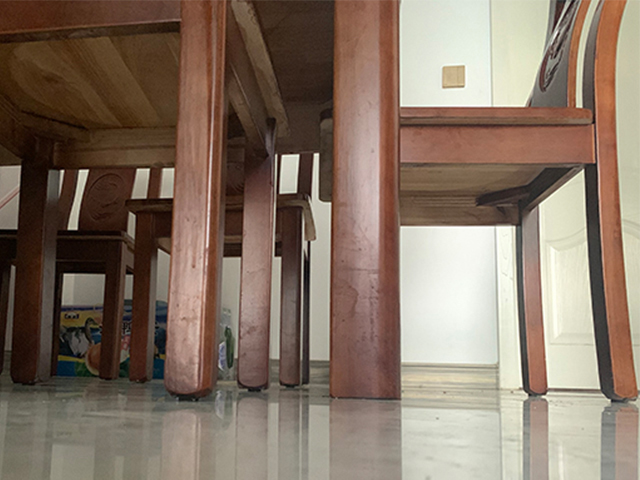stool: (1, 1, 288, 403), (397, 1, 639, 404), (125, 154, 318, 389), (1, 165, 164, 381)
